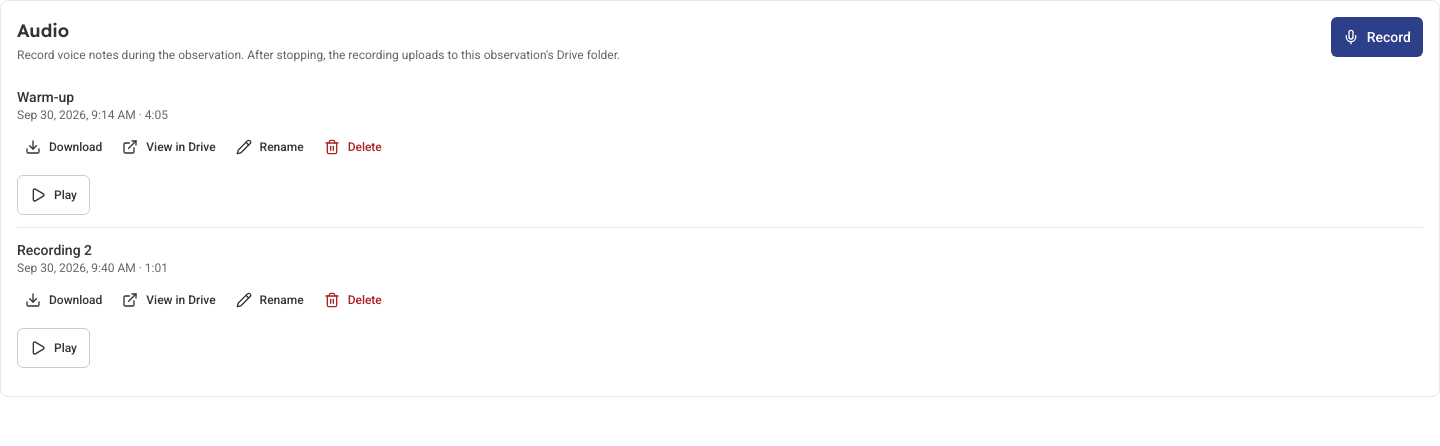
it: <AudioRecorder> starting a recording › reports itself busy, and holds a session sign-out, from the mic prompt on
This screenshot has width=1440, height=446.
Click the button "Record".
click(1377, 37)  # box [1331,17,1423,57]
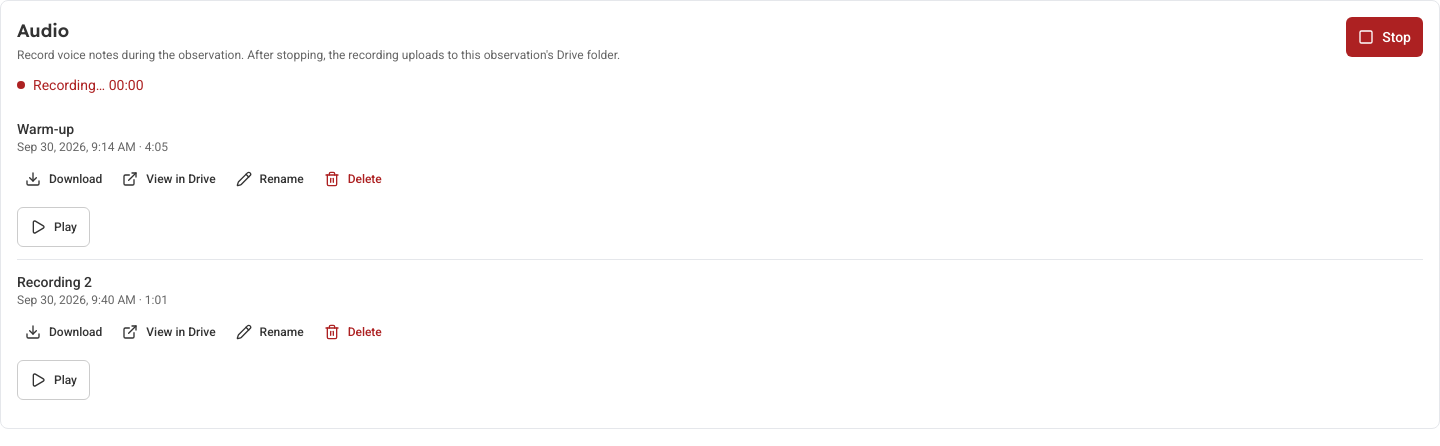
Now the button "Stop" is shown, box [1346,17,1423,57]
